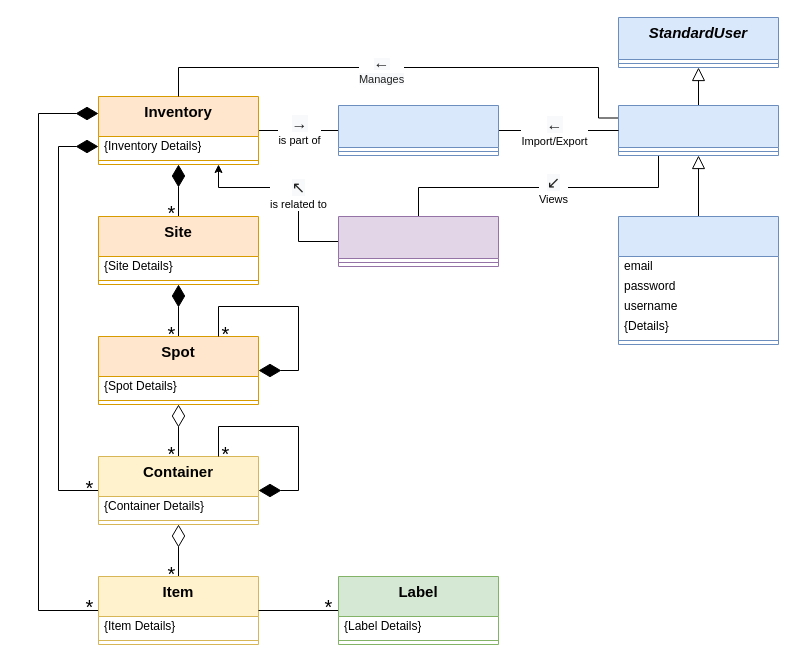
Image size: 796x662. Some labels were removed from this diagram. The shapes that lost their labels are listed below. From the top down, each one's box as (x1, y1, x2, y2) in pixels, then its label:
(338, 104, 498, 156): Data
(618, 104, 778, 156): BaseUser
(338, 216, 498, 266): Statistics
(618, 216, 778, 344): LoggedUser
